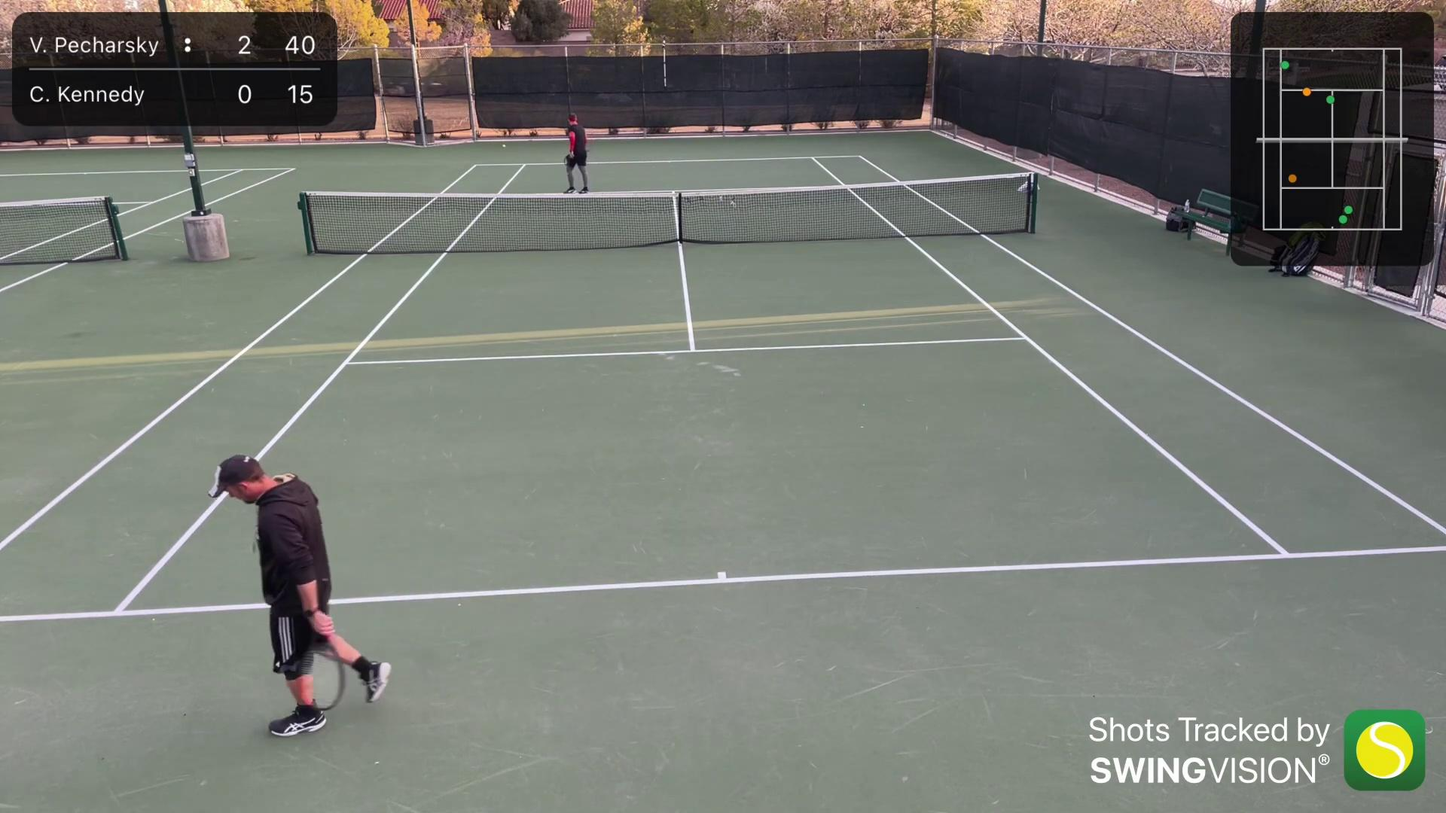ball: (502, 144, 507, 148)
